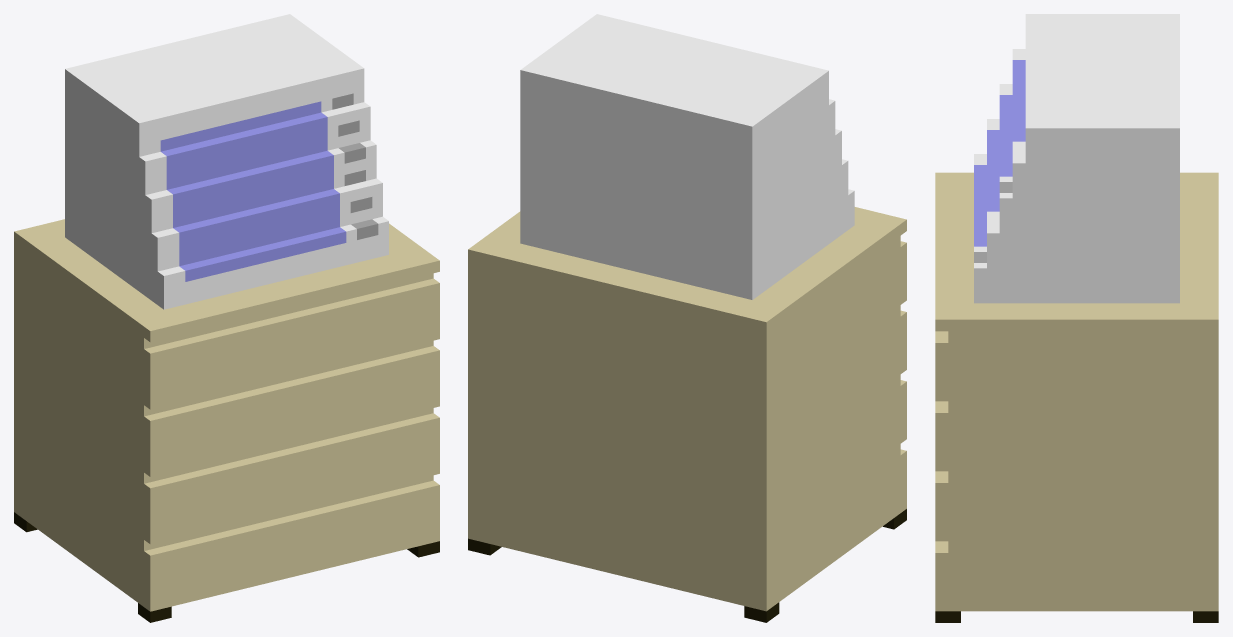
The model's file is Operating_room_Equip2-1.fbx.
3 renders of one model, left to right at view 1: azimuth 30°, elevation 25°; view 2: azimuth 150°, elevation 25°; view 3: azimuth 270°, elevation 25°, orthographic. The views are drawn at different scales.
Parts seen in each view (by area): view 1: Operating room Equip2-1; view 2: Operating room Equip2-1; view 3: Operating room Equip2-1.
Part boxes in pixels (x1,y1,x2,y2): Operating room Equip2-1: (14,14,439,622); Operating room Equip2-1: (468,14,906,622); Operating room Equip2-1: (935,14,1218,622).
Bounding box in the file's own units: 270 × 410 × 220.
